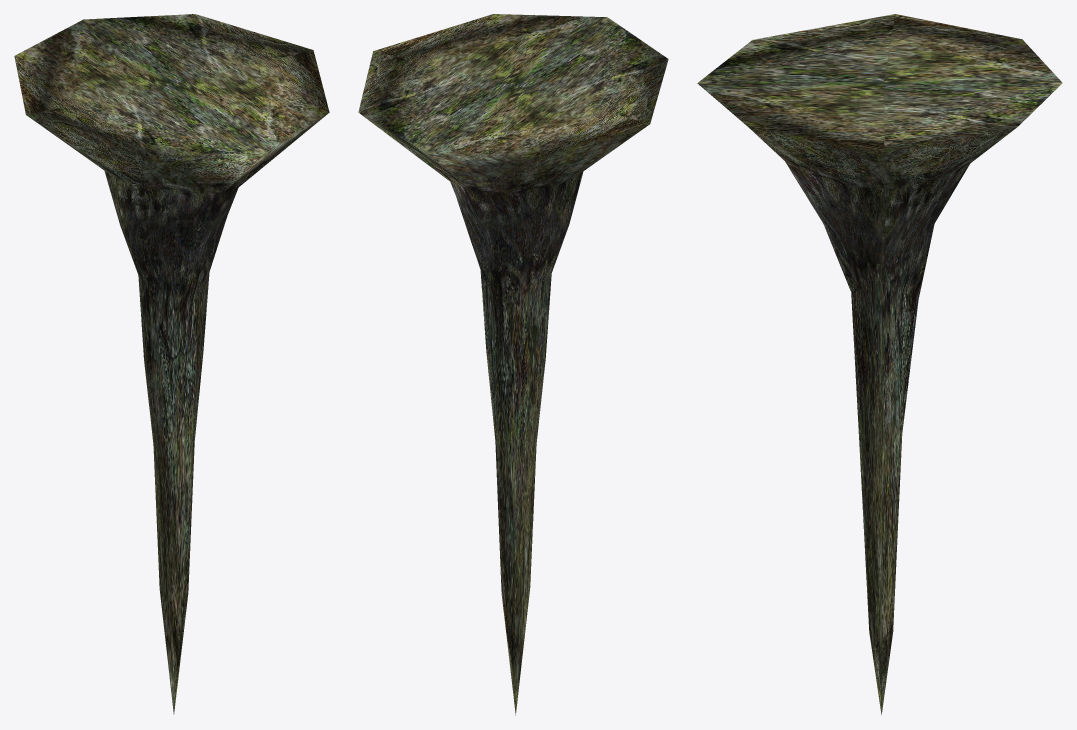
The model's file is thm_all_cave_stalagtite_damprock_a3_l0.fbx.
3 renders of one model, left to right at view 1: azimuth 30°, elevation 25°; view 2: azimuth 150°, elevation 25°; view 3: azimuth 270°, elevation 25°, orthographic.
Visible parts, largest first — view 1: mesh_node; view 2: mesh_node; view 3: mesh_node.
Boxes of the visible parts, x1,y1,x2,y2 form: mesh_node: (14, 14, 329, 714); mesh_node: (358, 14, 668, 715); mesh_node: (697, 14, 1062, 714).
Bounding box in the file's own units: 1.23 × 2.62 × 1.37.
